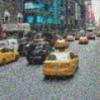cars: (43, 49, 79, 78)
